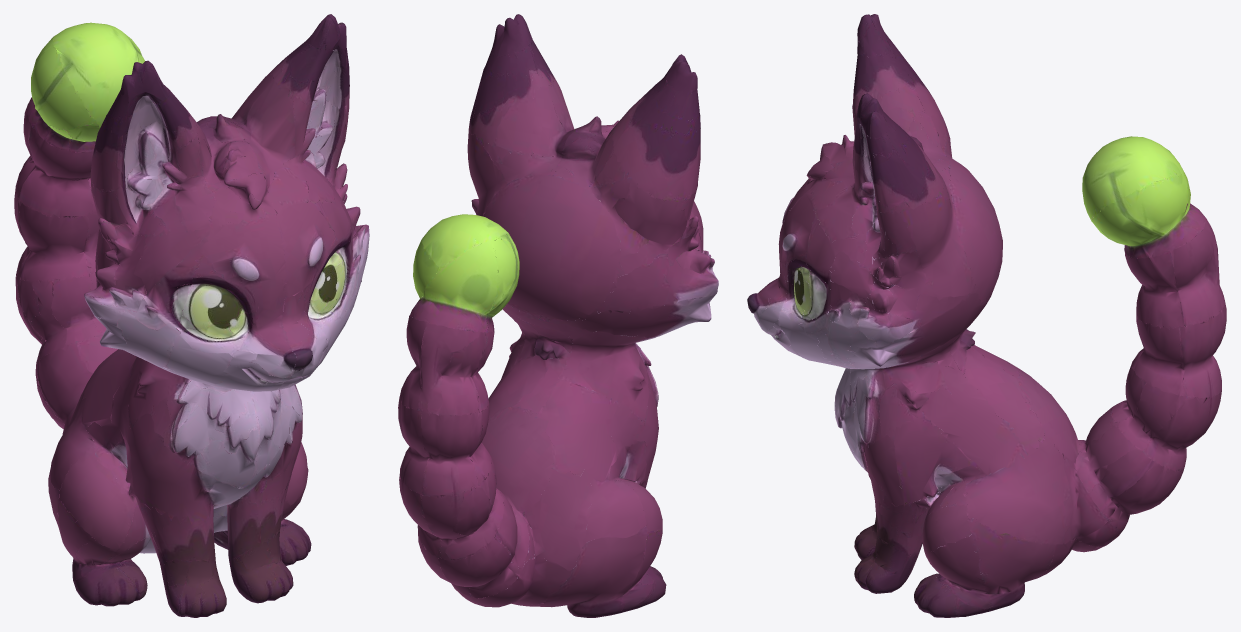
The picture shows the model from 3 angles, left to right: view 1: azimuth 30°, elevation 25°; view 2: azimuth 150°, elevation 25°; view 3: azimuth 270°, elevation 25°; orthographic projection. The views are drawn at different scales.
Visible parts, largest first — view 1: Mesh_0; view 2: Mesh_0; view 3: Mesh_0.
Boxes of the visible parts, x1,y1,x2,y2 form: Mesh_0: (14, 14, 369, 617); Mesh_0: (398, 14, 718, 617); Mesh_0: (747, 14, 1226, 617).
Bounding box in the file's own units: 0.9892 × 1.9 × 1.59.
1 material, 1 textured.
